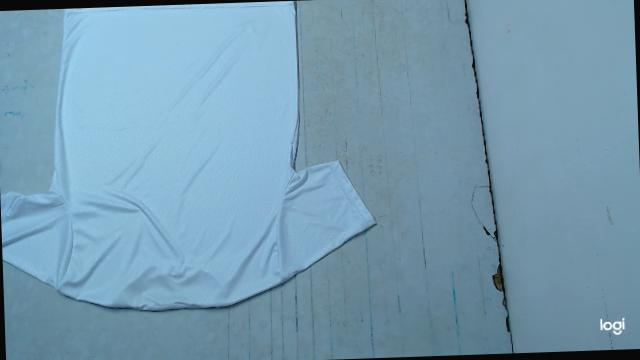new-garment: (0, 1, 375, 310)
